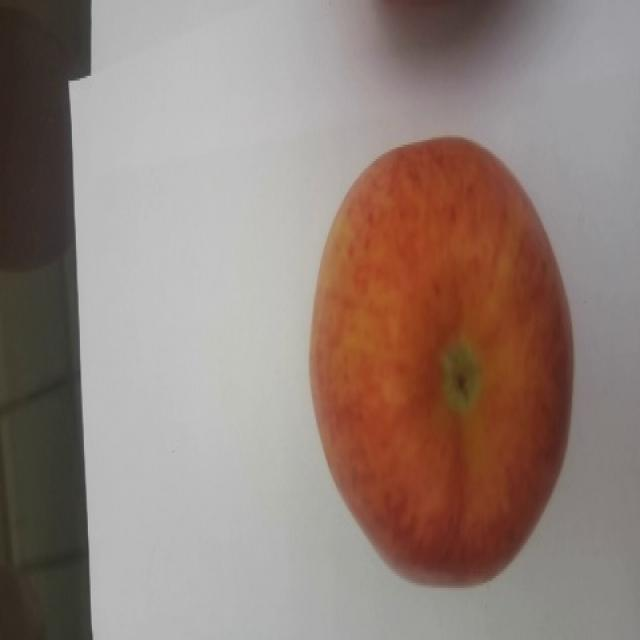Apple: (308, 134, 574, 588)
